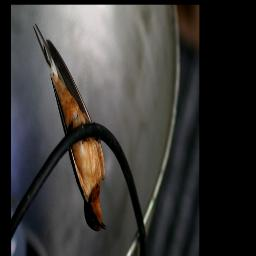Swallow: (30, 22, 110, 237)
